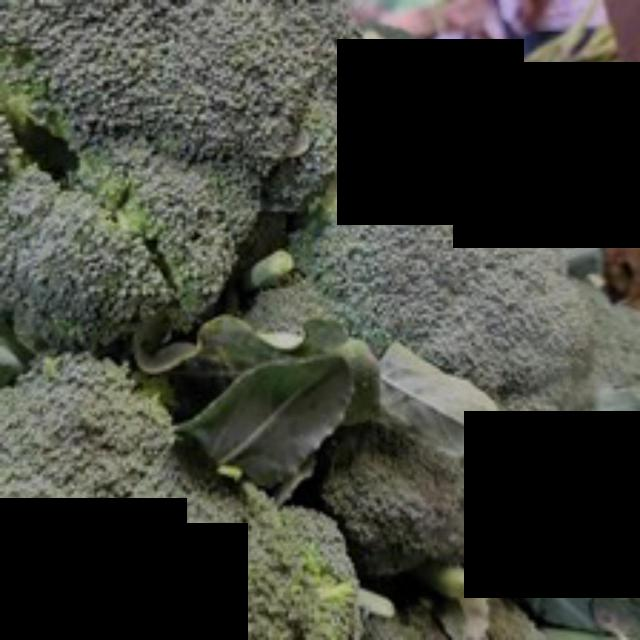broccoli: (223, 154, 639, 581)
